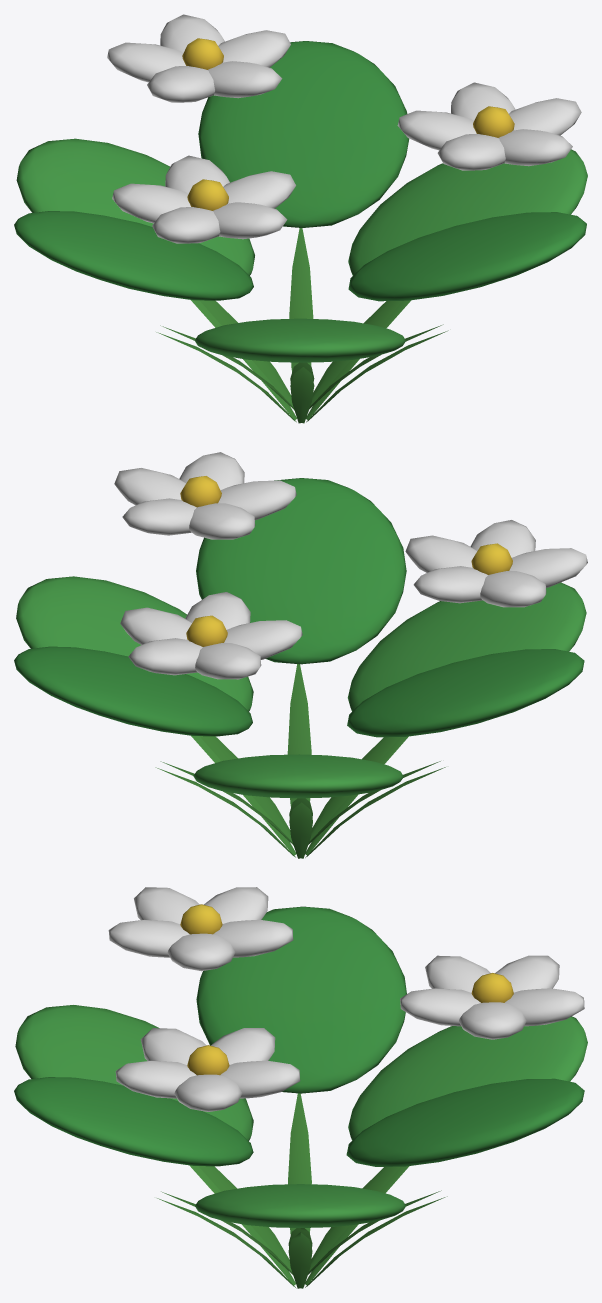
Rendered from strawberry-2.glb.
The picture shows the model from 3 angles, top to bottom: view 1: azimuth 30°, elevation 25°; view 2: azimuth 150°, elevation 25°; view 3: azimuth 270°, elevation 25°; orthographic projection.
Parts seen in each view (by area): view 1: strawberry-2; view 2: strawberry-2; view 3: strawberry-2.
Part boxes in pixels (x1,y1,x2,y2): strawberry-2: (14, 14, 587, 423); strawberry-2: (14, 452, 587, 858); strawberry-2: (14, 887, 587, 1288).
Bounding box in the file's own units: 0.6583 × 0.3572 × 0.5973.
